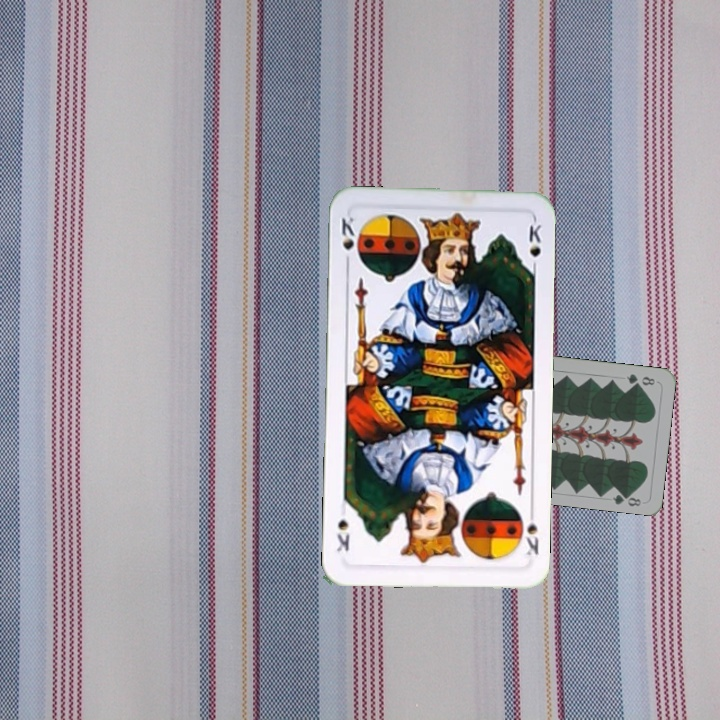G8: (622, 370, 658, 388)
SK: (337, 213, 357, 270), (522, 504, 542, 558)
